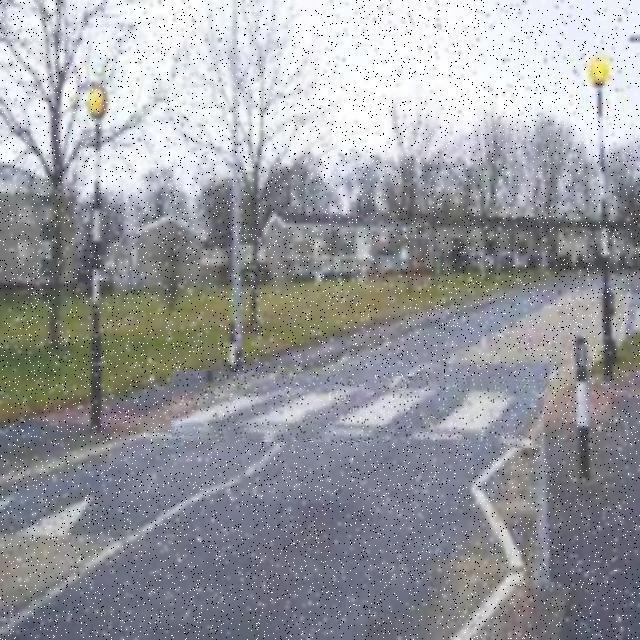crosswalk: (172, 373, 544, 445)
